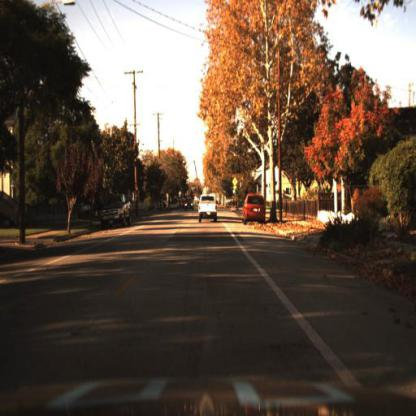car: (102, 191, 131, 231), (238, 192, 267, 223), (198, 192, 217, 223), (182, 199, 194, 211)
